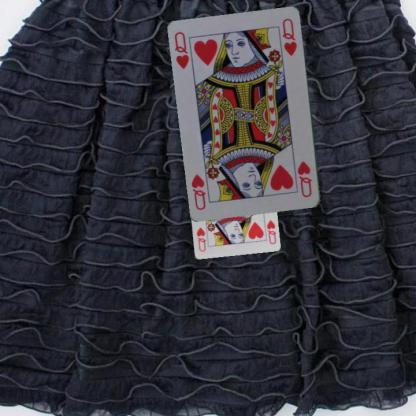Qh: (172, 29, 191, 71), (295, 158, 313, 199), (264, 217, 277, 246)
